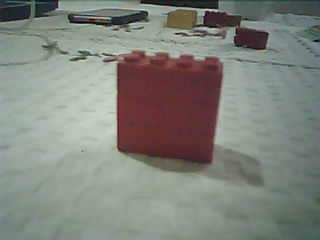lego: (115, 48, 225, 165), (233, 26, 270, 51), (203, 10, 242, 29), (165, 8, 197, 30)
